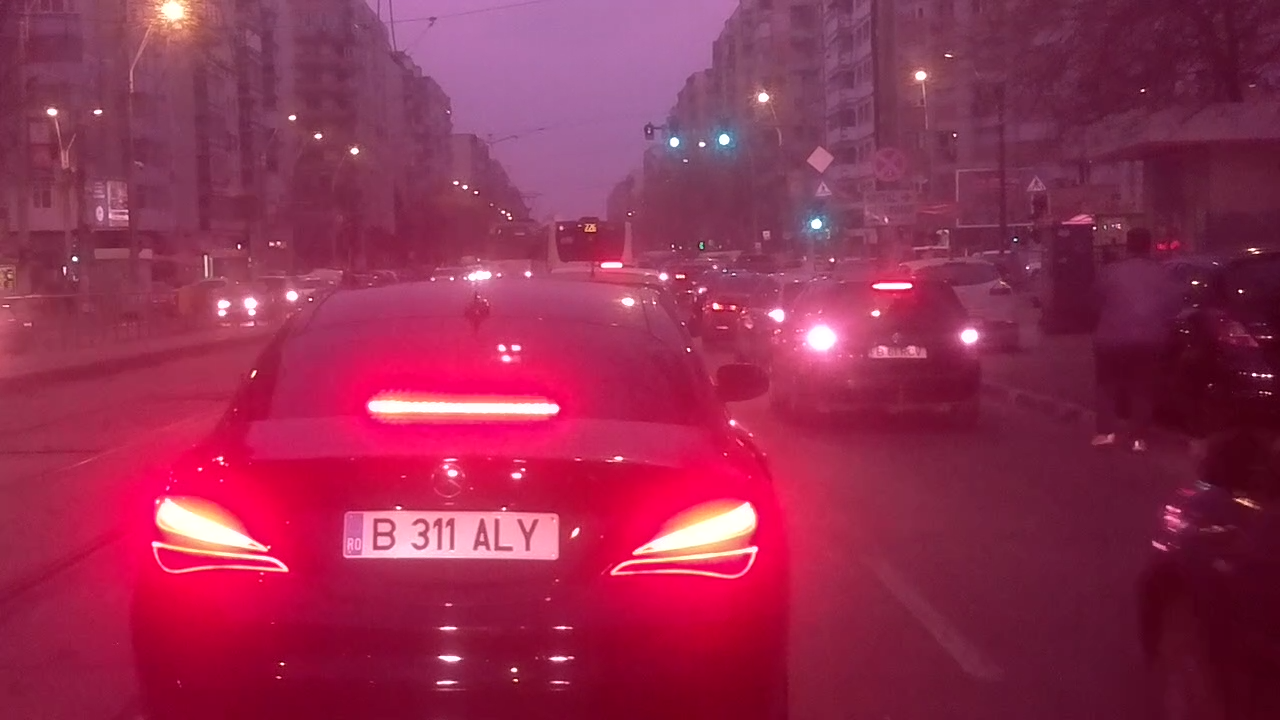license-plate: (340, 508, 563, 562), (868, 344, 929, 360)
